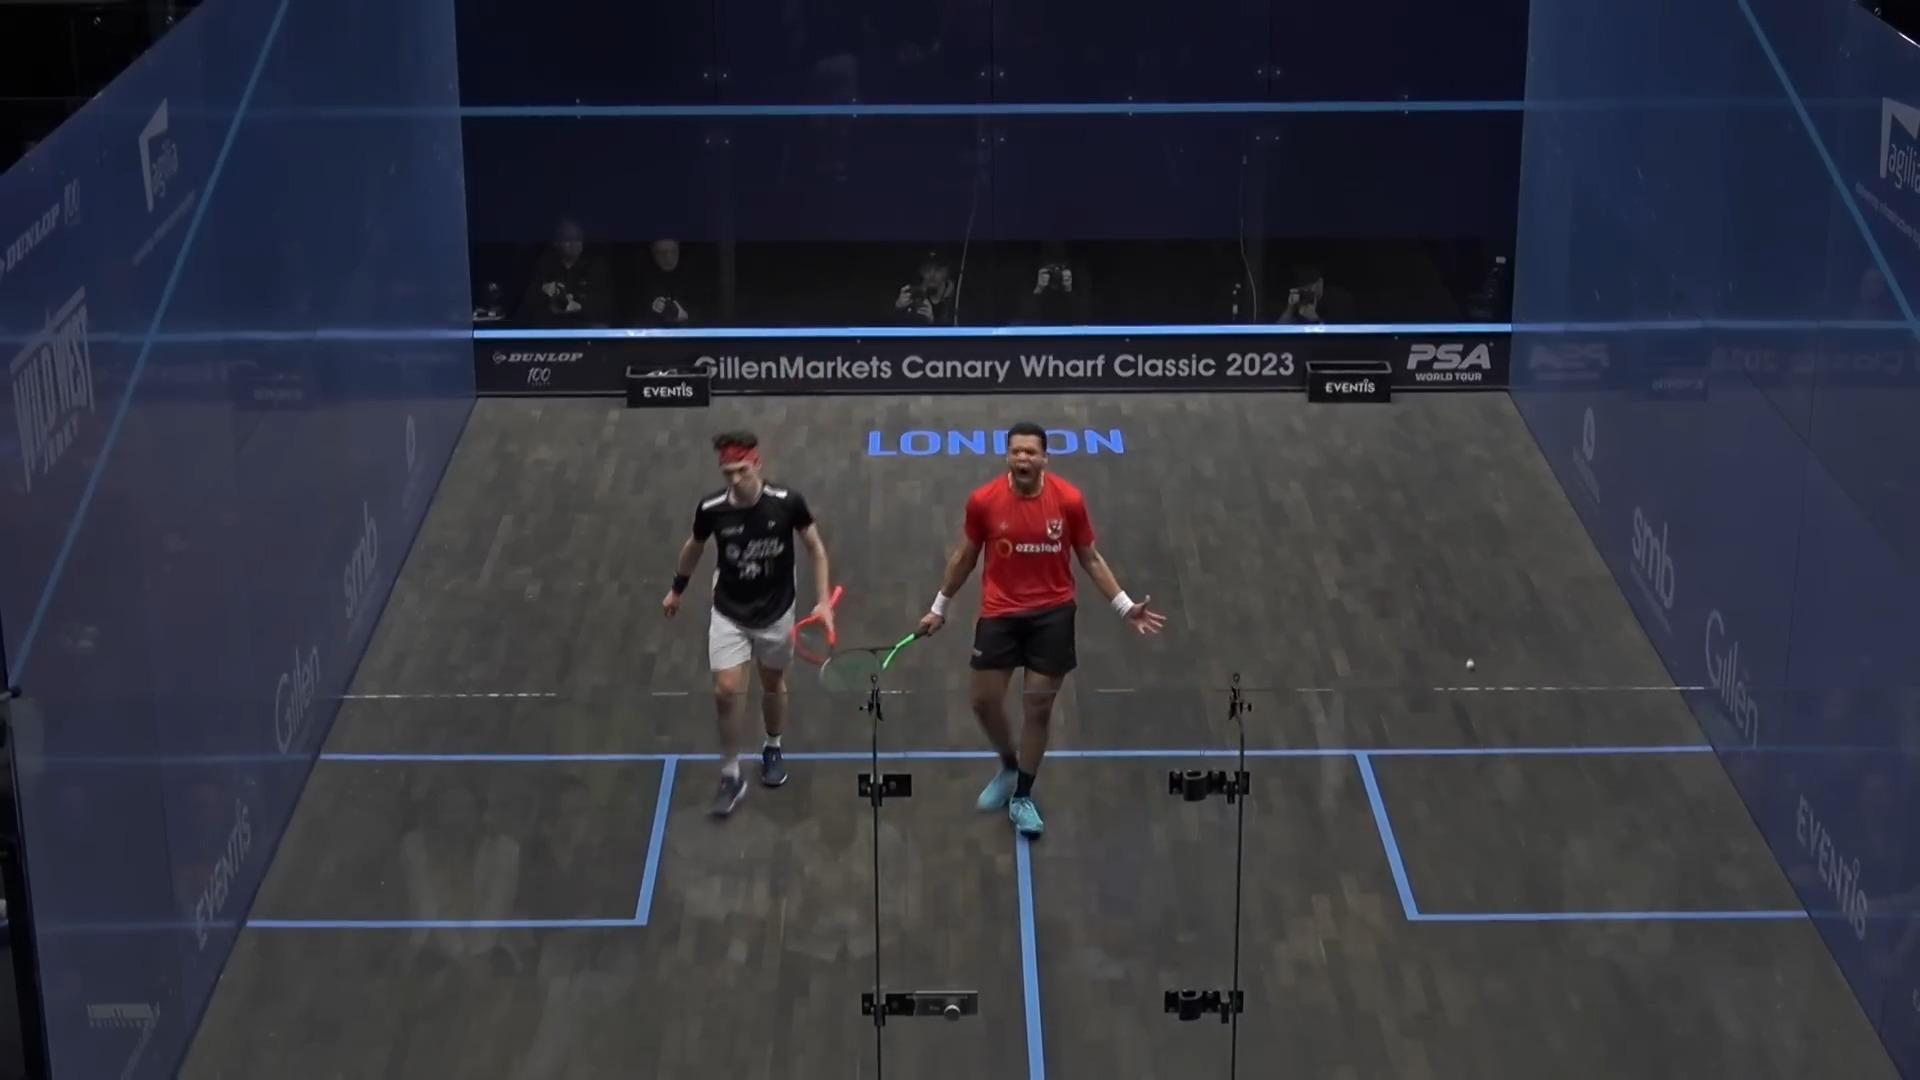Racket: (815, 626, 924, 705), (785, 579, 852, 670)
